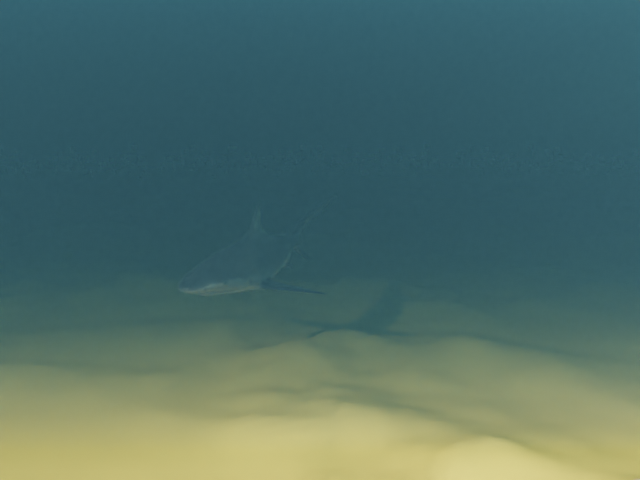Carribean Shark.001: (177, 194, 337, 295)
